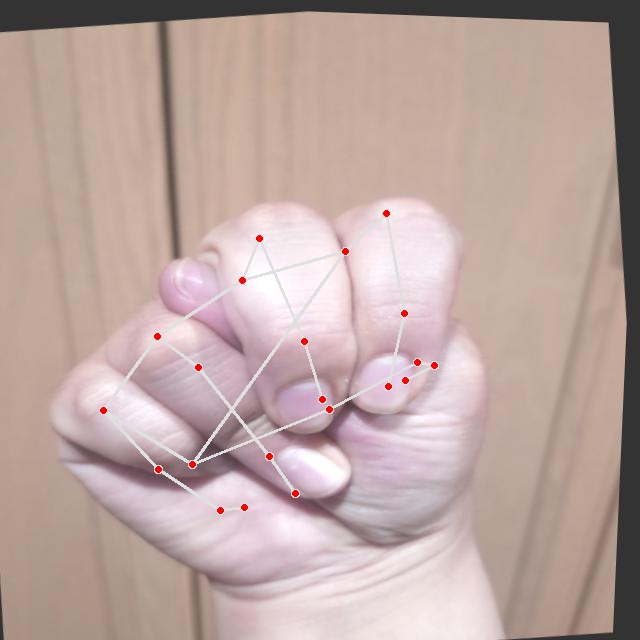N: (15, 163, 537, 617)
